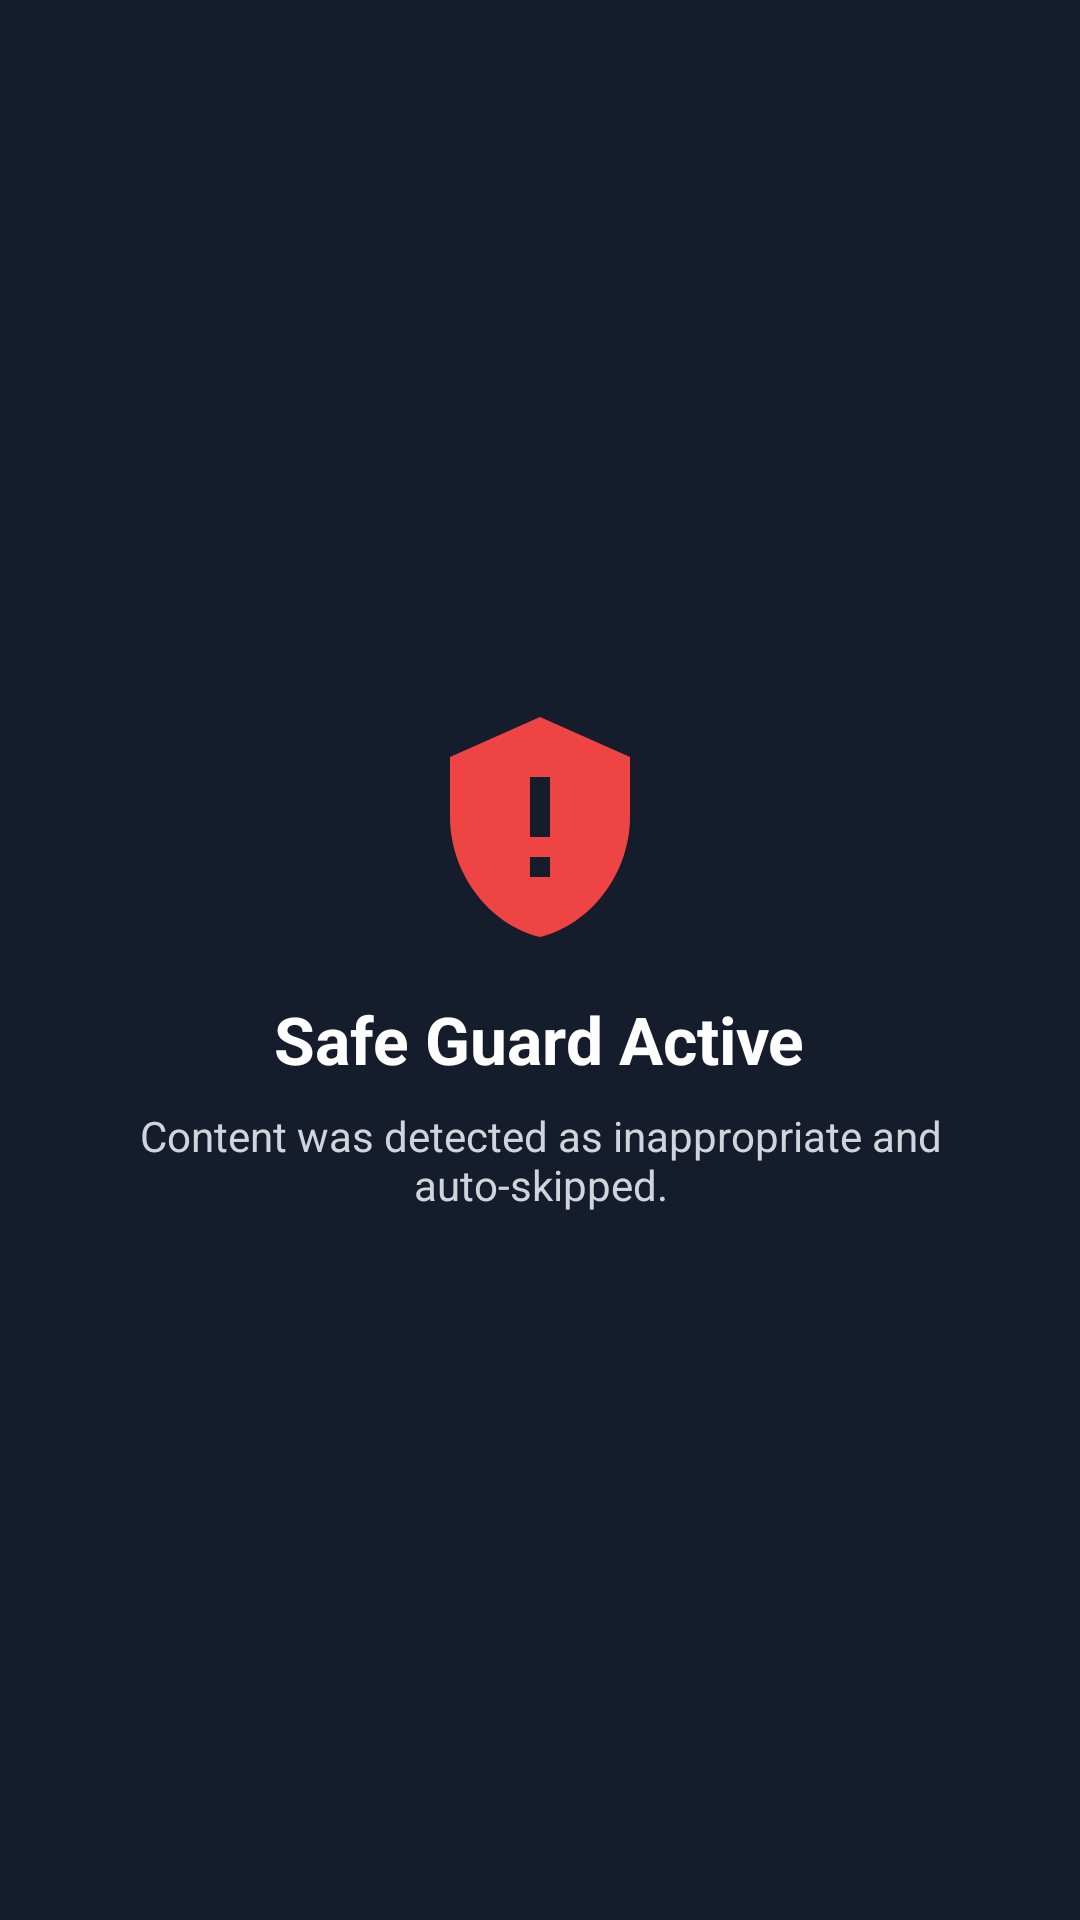

Where icons sit on this 1080 × 1920 app screen, as {"left": x1, "top": y1, "right": x2, "bottom": y2}:
safety shield: {"left": 450, "top": 717, "right": 630, "bottom": 937}
